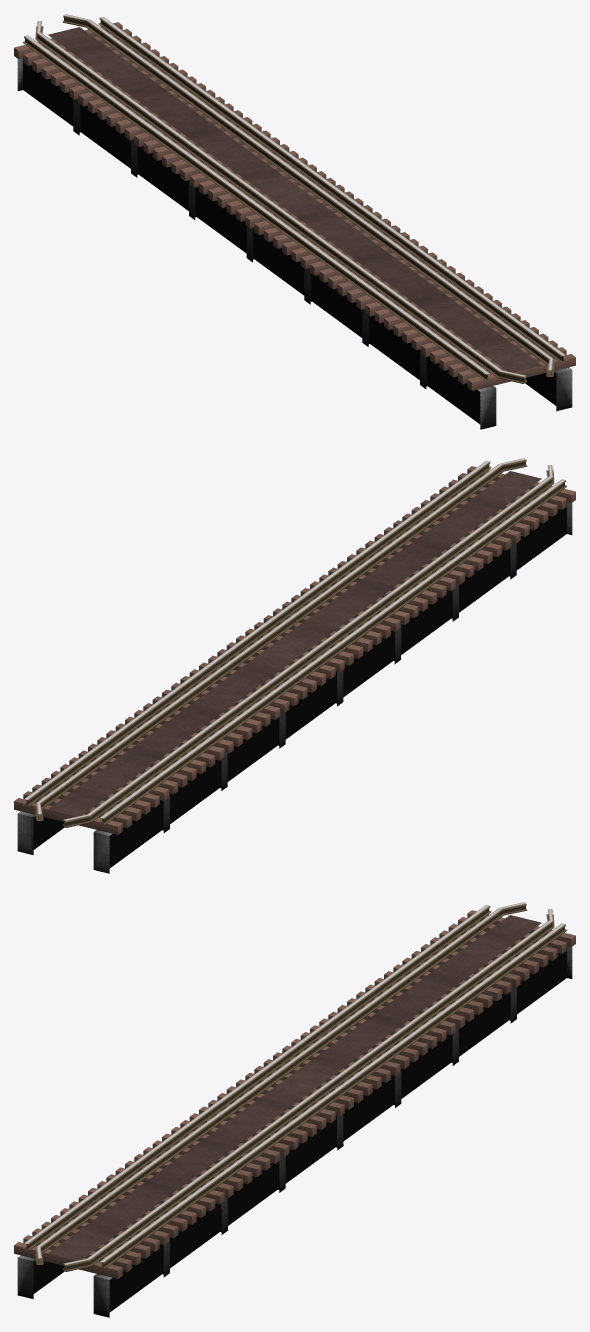
File: 1RAIL_BRIDGE50_NOBANISTER.glb
The picture shows the model from 3 angles, top to bottom: view 1: azimuth 30°, elevation 25°; view 2: azimuth 150°, elevation 25°; view 3: azimuth 330°, elevation 25°; orthographic projection.
Visible parts, largest first — view 1: obj16, obj4, obj10, obj8, obj11, obj9, obj5, obj12, bone0; view 2: obj16, bone0, obj8, obj10, obj12, obj5, obj9, obj11, obj4; view 3: obj16, obj4, obj10, obj8, obj5, obj11, obj9, obj12, bone0.
Boxes of the visible parts, x1,y1,x2,y2 form: obj16: (17, 16, 572, 429); obj4: (421, 320, 575, 390); obj10: (356, 272, 520, 350); obj8: (125, 103, 289, 180); obj11: (189, 151, 344, 221); obj9: (245, 191, 400, 262); obj5: (300, 232, 455, 302); obj12: (69, 63, 224, 133); bone0: (14, 22, 168, 92); obj16: (17, 460, 572, 873); bone0: (14, 764, 168, 834); obj8: (125, 676, 289, 753); obj10: (356, 507, 520, 584); obj12: (69, 723, 224, 794); obj5: (300, 554, 455, 624); obj9: (245, 595, 400, 665); obj11: (189, 635, 344, 706); obj4: (421, 466, 575, 536); obj16: (17, 904, 572, 1317); obj4: (14, 1208, 168, 1278); obj10: (69, 1160, 233, 1238); obj8: (300, 991, 464, 1068); obj5: (134, 1120, 289, 1190); obj11: (245, 1039, 400, 1109); obj9: (189, 1079, 344, 1150); obj12: (365, 951, 520, 1021); bone0: (421, 910, 575, 980).
Size of the model in its own units: 6.5 by 3.21 by 52.7.
Materials: 16 (13 with a texture image).
